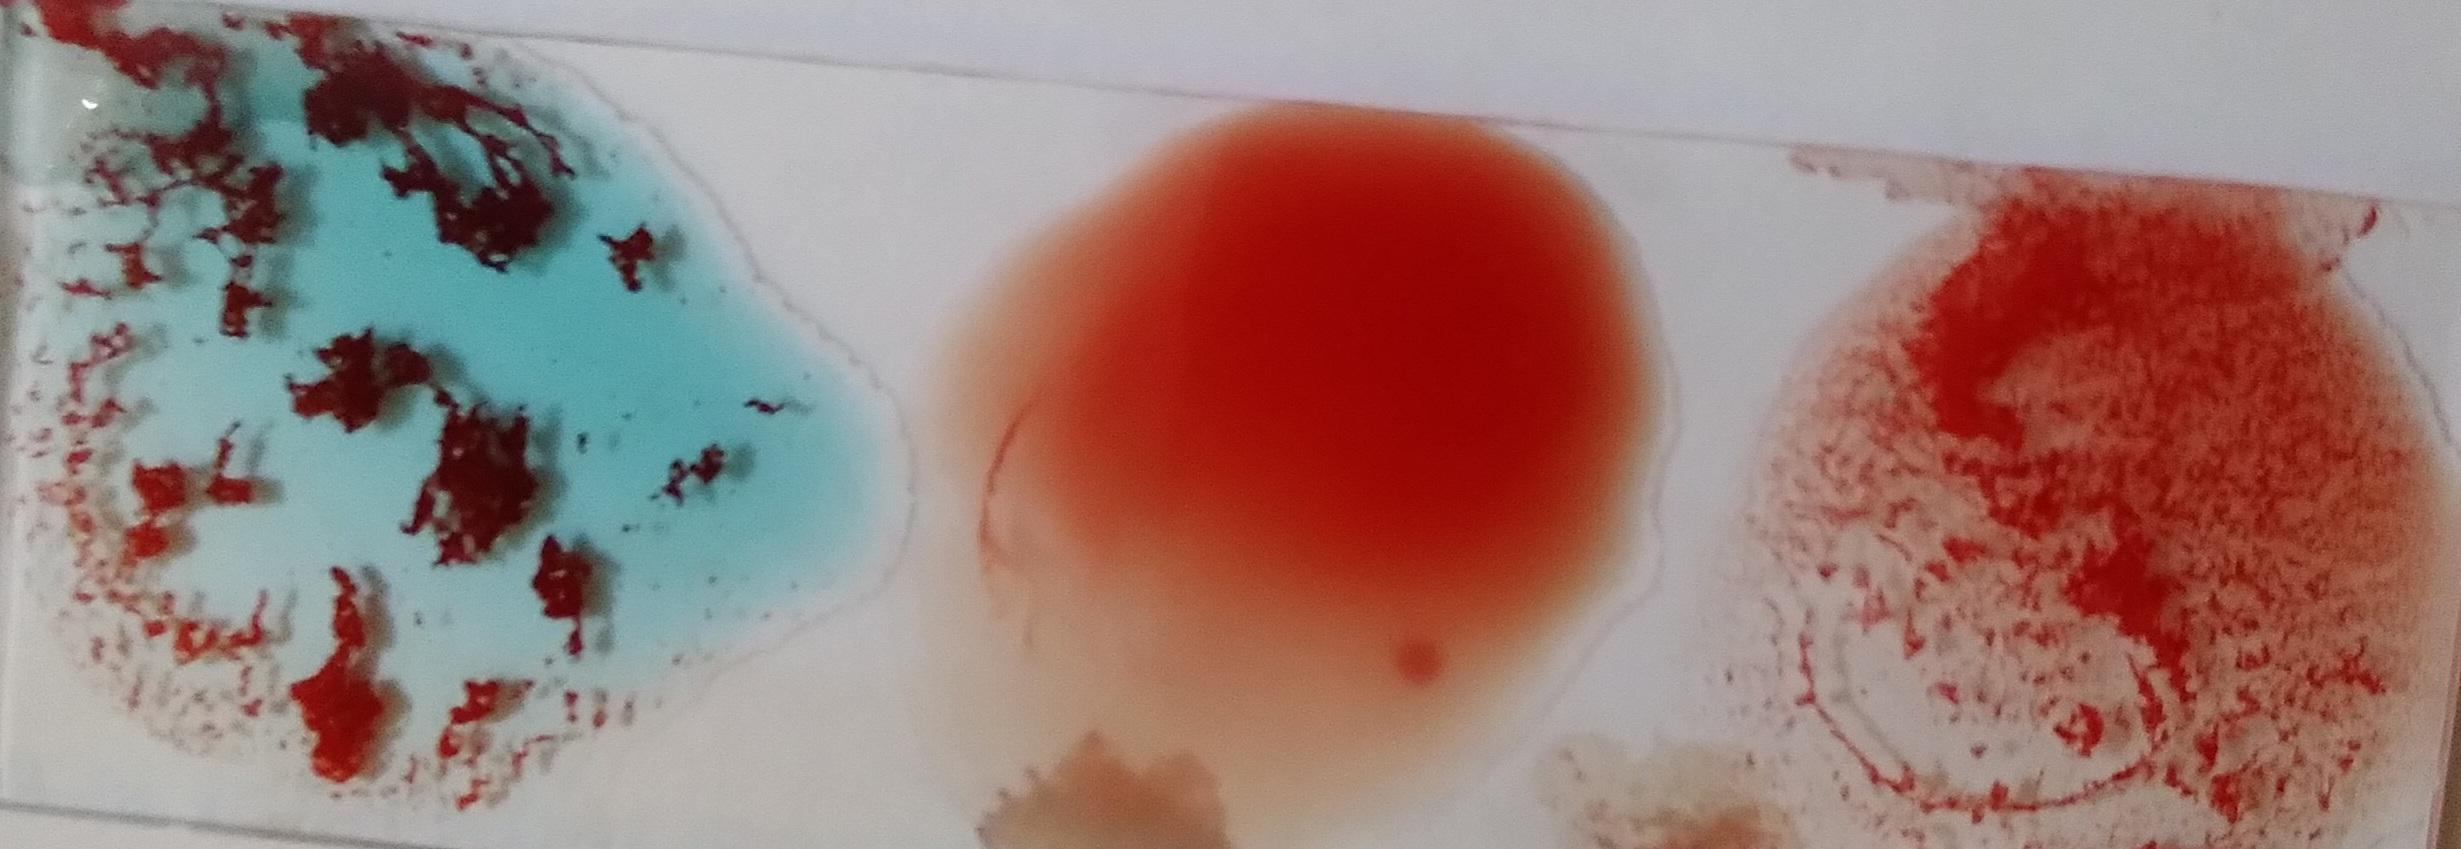A: (46, 11, 731, 789)
D: (1817, 251, 2439, 816)
